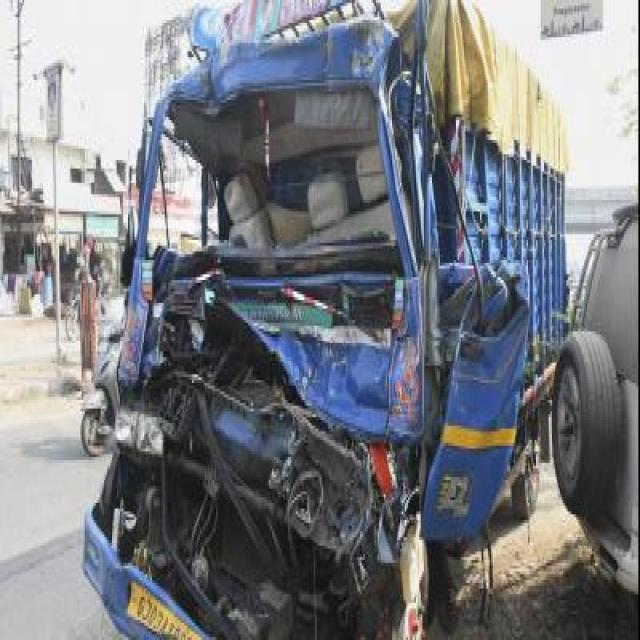accident: (84, 0, 565, 637)
